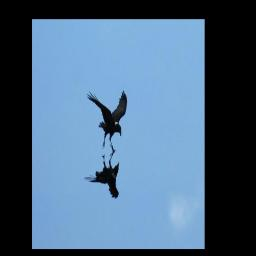Crow: (86, 90, 128, 154)
